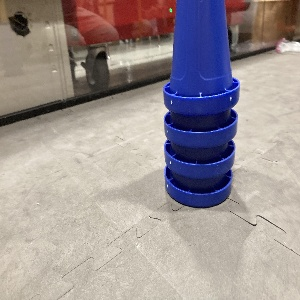Blue_4: (159, 1, 244, 209)
